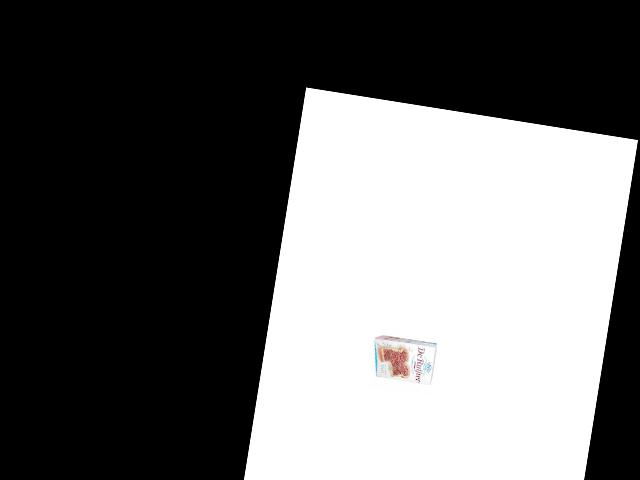chocolate: (369, 328, 442, 391)
